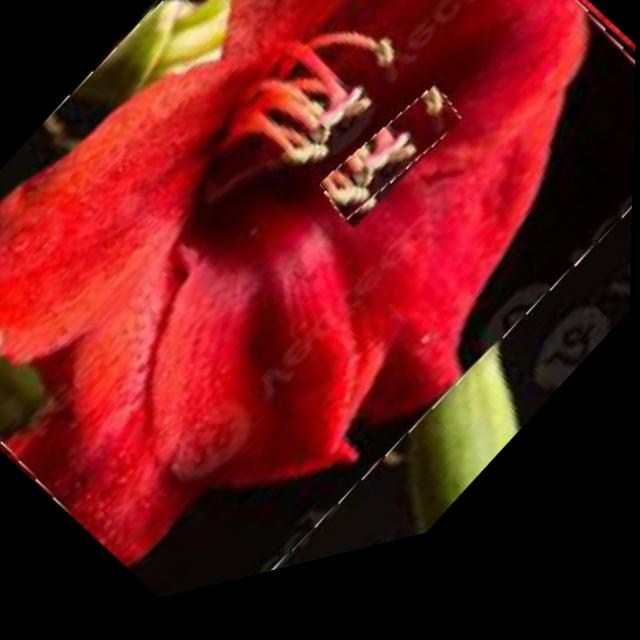Flower: (318, 89, 465, 254)
